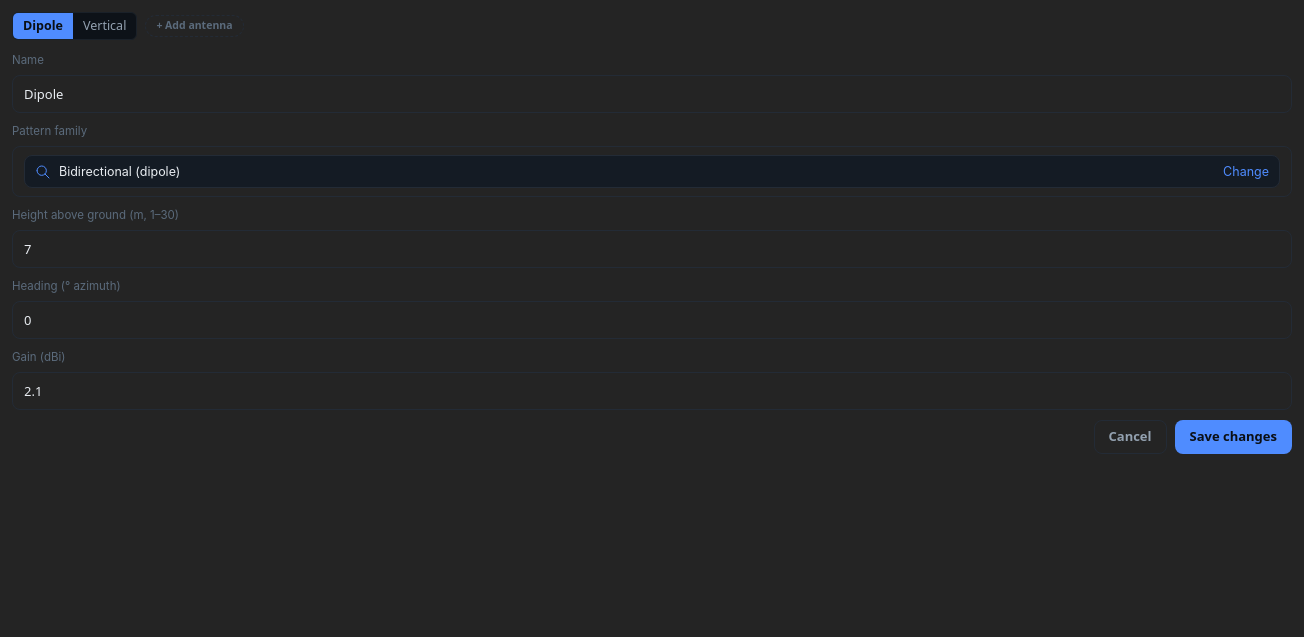
Test: AntennaList › switching the active antenna while the form is dirty › discards the edit and switches once confirmed
Replace the text in the number field named "Height above ground (m)" with "12". click: (652, 249)
box: x1=24 y1=239 x2=1280 y2=259
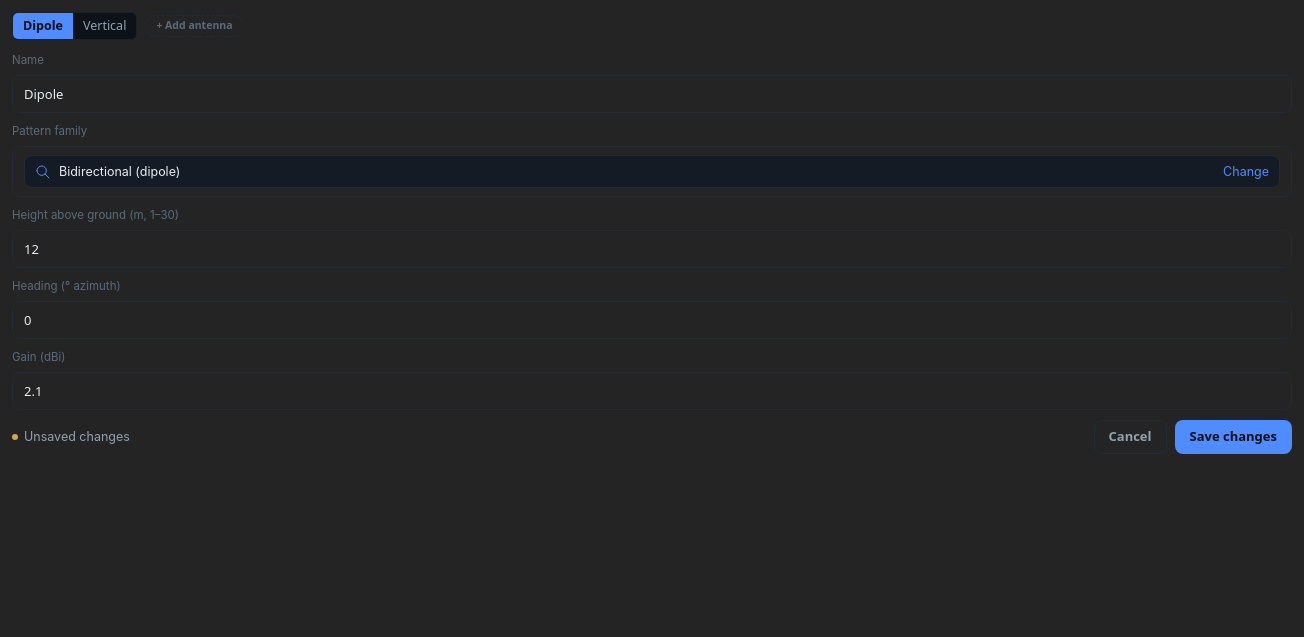
Click the button "Vertical". click: (105, 26)
box: x1=73 y1=13 x2=136 y2=39
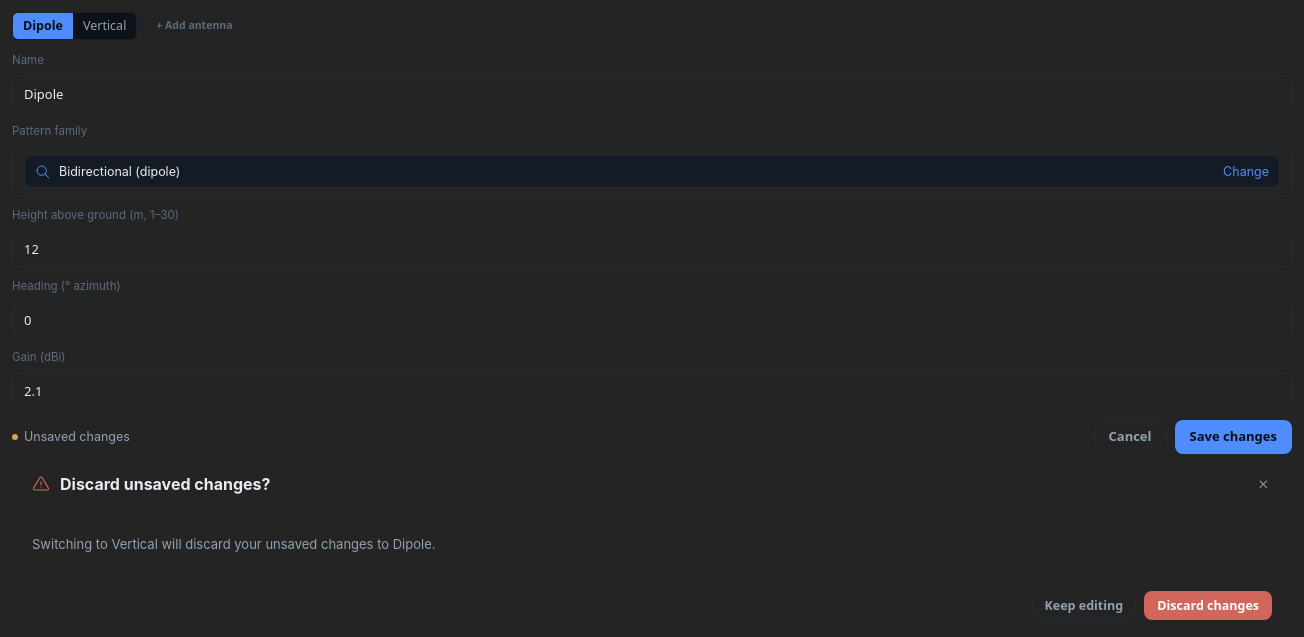
Click the button "Discard changes". click: (1208, 605)
box: x1=1144 y1=591 x2=1272 y2=620
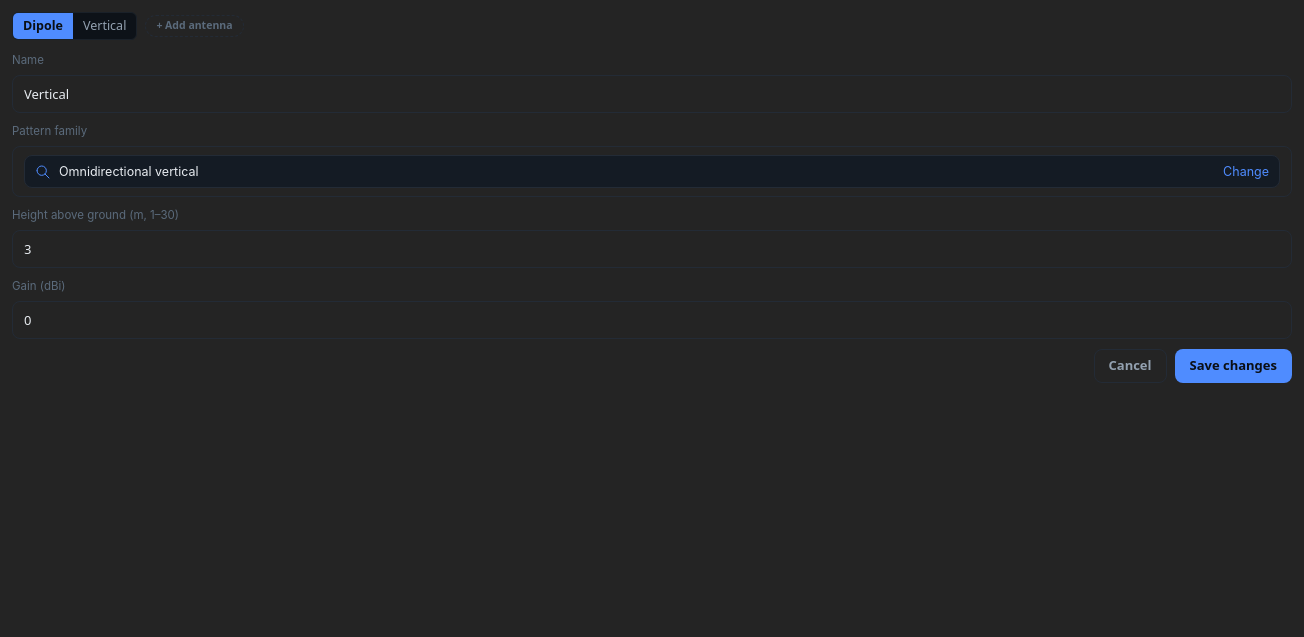
Expected: the field with placeholder "e.g. 20m yagi" holds "Vertical", x1=24 y1=84 x2=1280 y2=104
Expected: the number field named "Height above ground (m)" holds "3", x1=24 y1=239 x2=1280 y2=259
